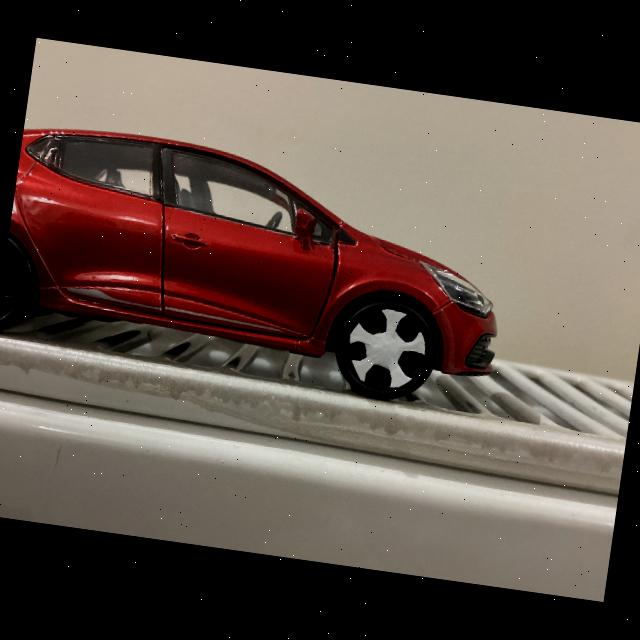Dogru_Jant: (0, 239, 44, 330)
Yanlis_Jant: (341, 304, 432, 394)
